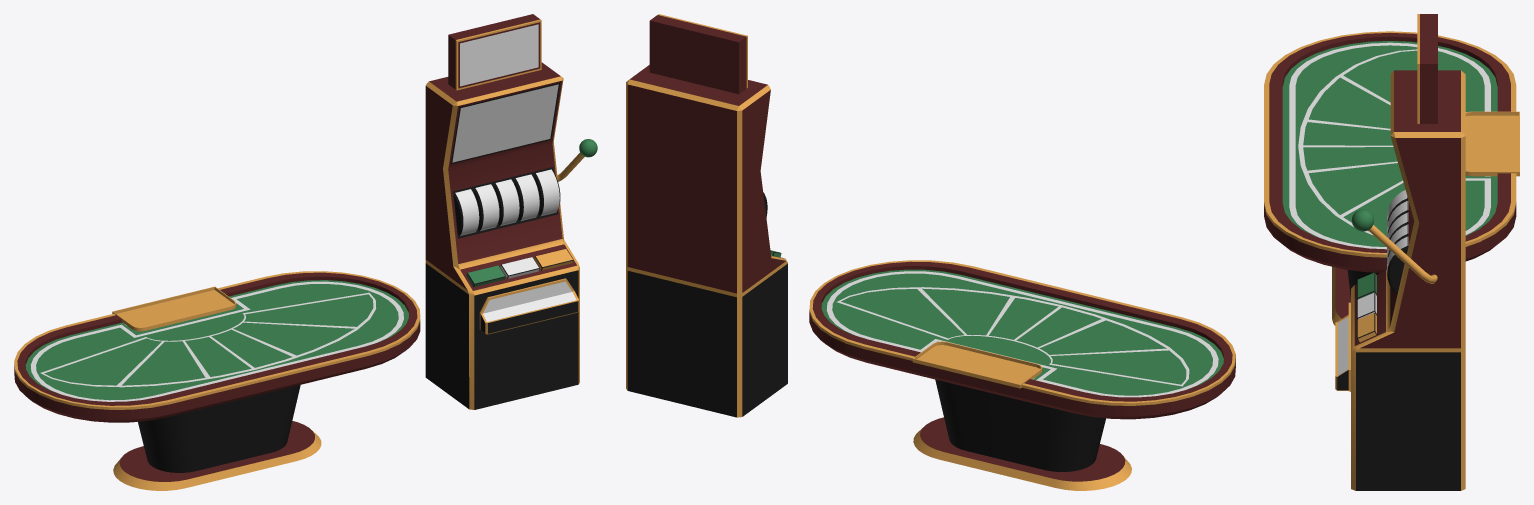
File: table_and_slot_machine.fbx
3 views of the same model, side by side, from view 1: azimuth 30°, elevation 25°; view 2: azimuth 150°, elevation 25°; view 3: azimuth 270°, elevation 25° (orthographic). The views are drawn at different scales.
Visible parts, largest first — view 1: casino table, slotmachine; view 2: casino table, slotmachine; view 3: slotmachine, casino table.
Boxes of the visible parts, x1,y1,x2,y2 form: casino table: (14, 271, 420, 490); slotmachine: (425, 14, 597, 409); casino table: (809, 260, 1235, 490); slotmachine: (626, 14, 787, 417); slotmachine: (1335, 14, 1465, 490); casino table: (1264, 31, 1519, 325).
Size of the model in its own units: 368 by 219 by 121.
